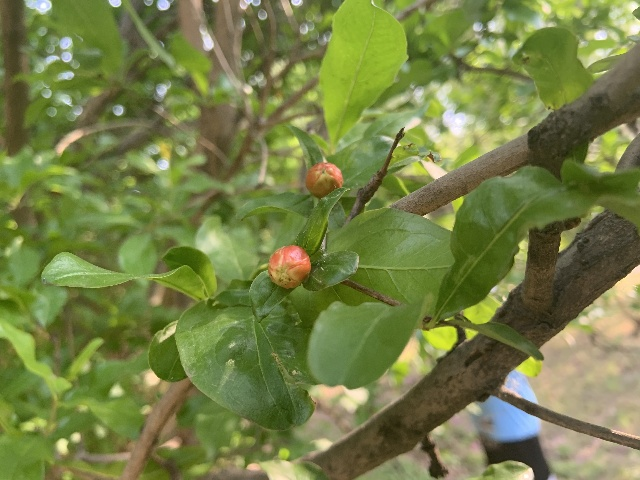bud: (268, 245, 310, 289), (305, 162, 343, 198)
